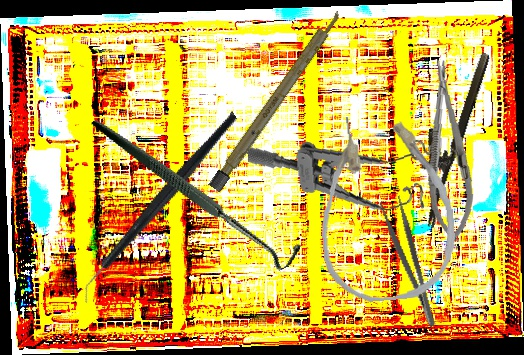Cannula: (312, 108, 460, 306)
Chopper: (39, 110, 282, 308)
Dressing Forceps: (378, 194, 439, 332)
Hook Surgical: (90, 63, 308, 317)
Needle Holder: (399, 44, 493, 229), (419, 57, 478, 247)
Scalpel Handle: (208, 7, 344, 193)
Speculum: (246, 124, 442, 230)
